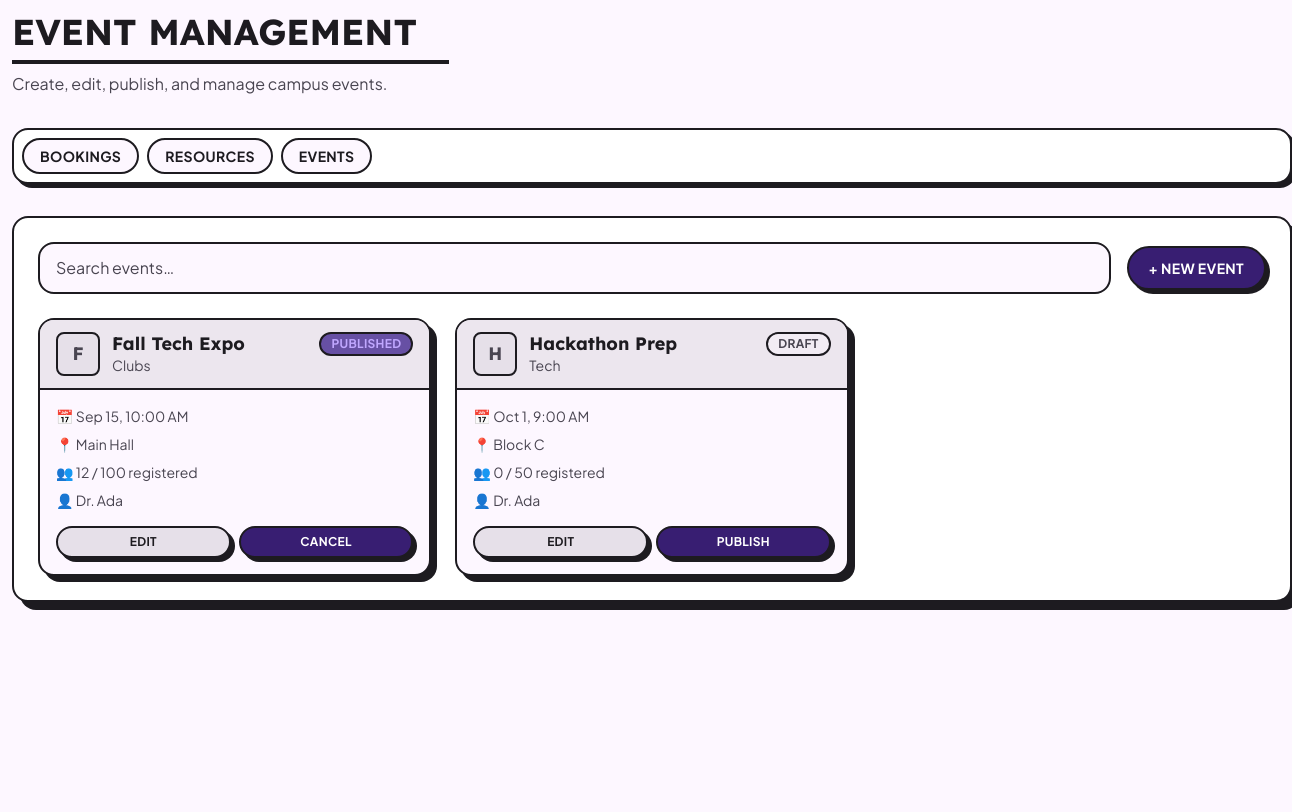
Test: AdminEventsPage › cancels a published event
Click the button "Cancel" at (326, 542), box [239,526,413,558]
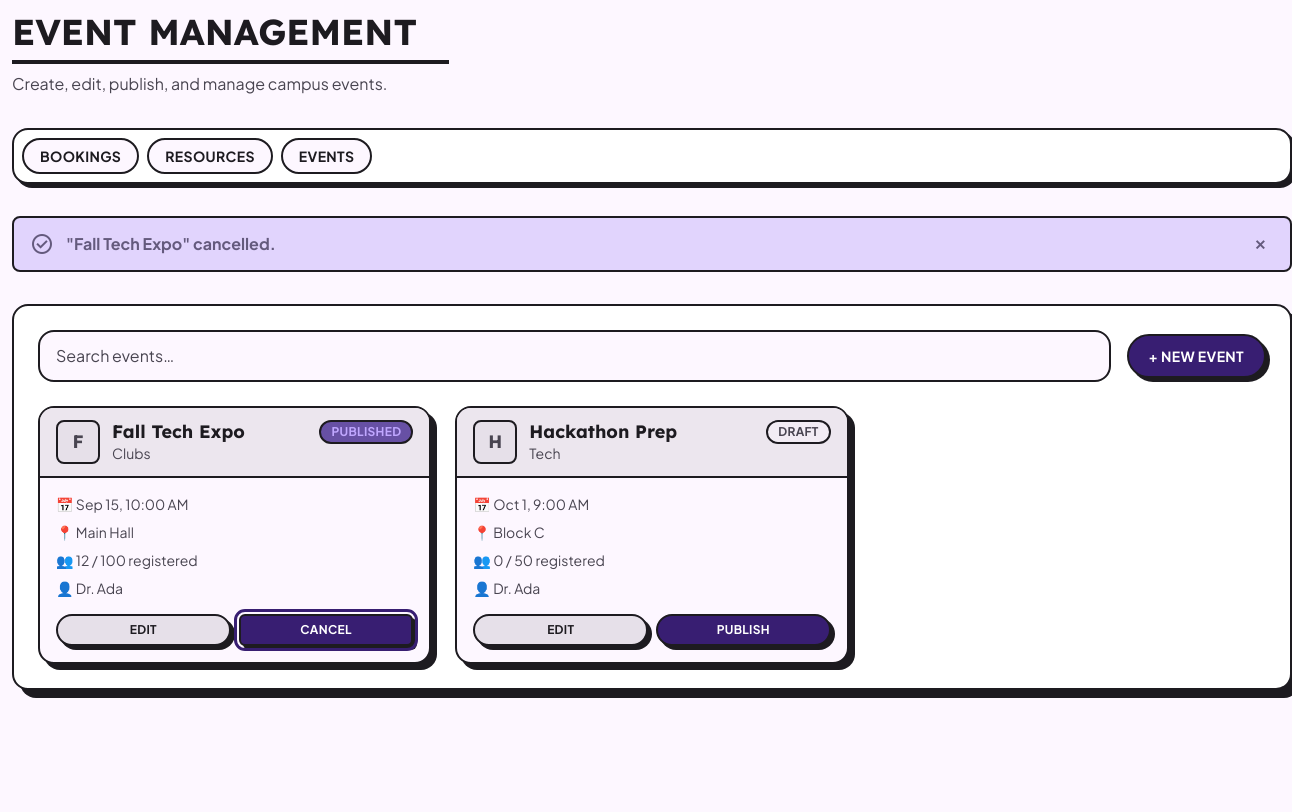
Check: the text "\"Fall Tech Expo\" cancelled." is shown, box [66,232,276,256]
